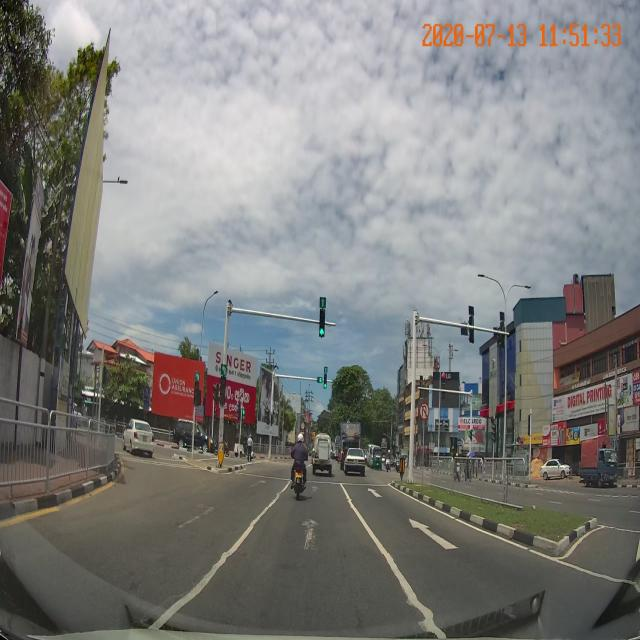forward: (225, 507, 388, 554)
